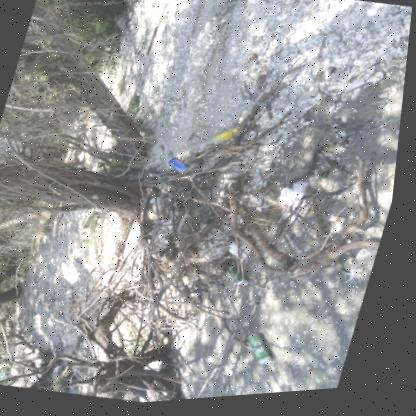Metal: (255, 337, 281, 368), (234, 268, 255, 291), (172, 159, 193, 176)
Paper: (334, 220, 351, 228)
Plastic: (283, 185, 314, 227), (199, 131, 241, 154), (235, 243, 256, 263)
Waste: (236, 131, 241, 136)
